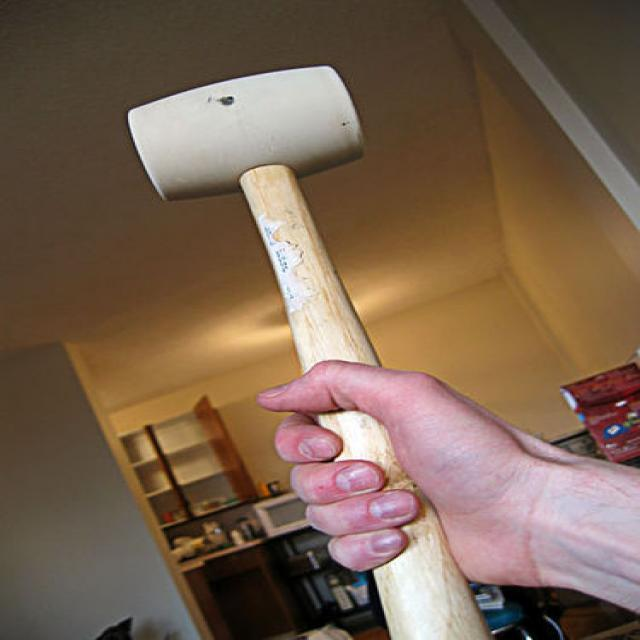hammer: (117, 57, 544, 640)
